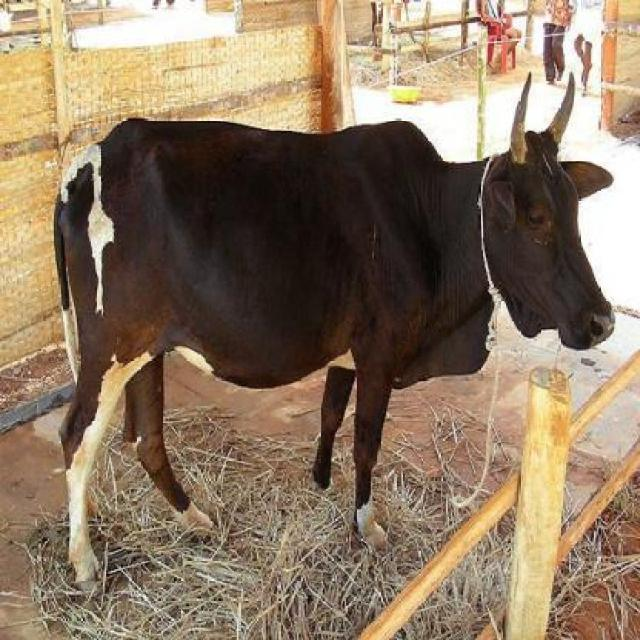Cow: (52, 69, 616, 597)
